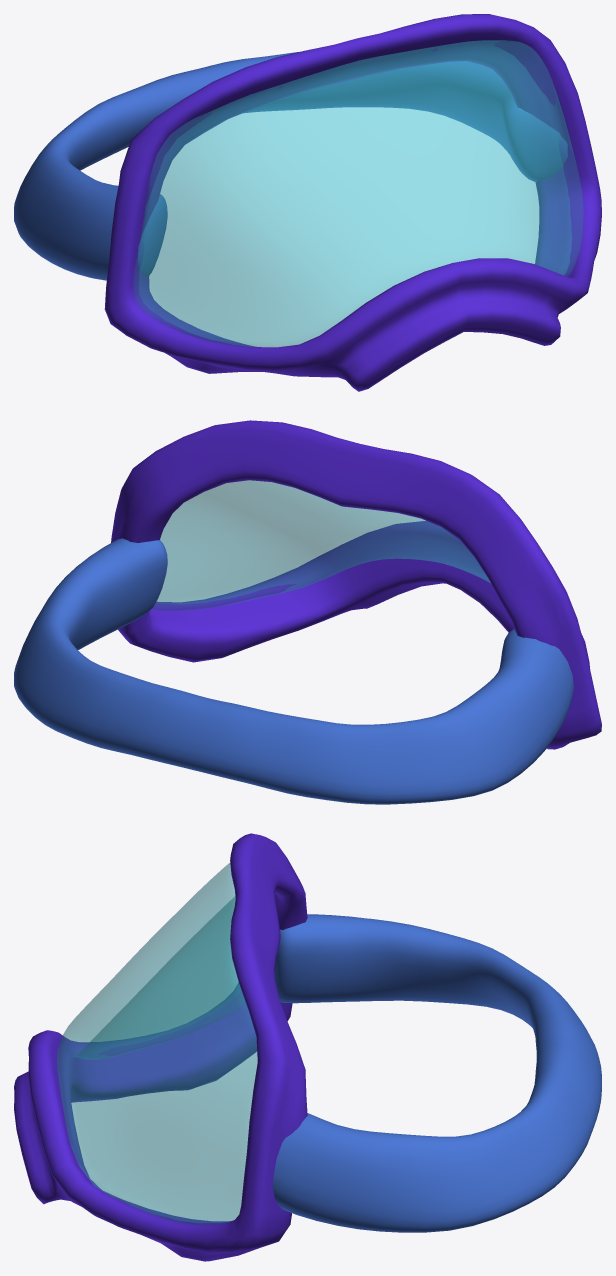
Rendered from googles.fbx.
3 renders of one model, top to bottom at view 1: azimuth 30°, elevation 25°; view 2: azimuth 150°, elevation 25°; view 3: azimuth 270°, elevation 25°, orthographic. The views are drawn at different scales.
Visible parts, largest first — view 1: Googles.001, Googles.002, Googles; view 2: Googles.002, Googles, Googles.001; view 3: Googles, Googles.001, Googles.002.
Boxes of the visible parts, x1,y1,x2,y2 form: Googles.001: (133,40,583,347); Googles.002: (104,14,601,391); Googles: (14,52,567,280); Googles.002: (111,420,601,749); Googles: (14,538,573,804); Googles.001: (152,480,490,610); Googles: (272,914,601,1232); Googles.001: (57,863,257,1224); Googles.002: (14,833,307,1261).
Size of the model in its own units: 128 by 68.26 by 128.
